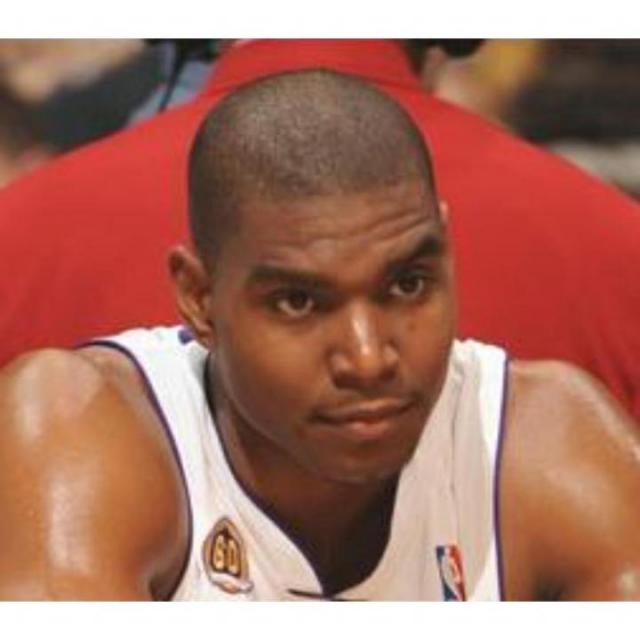live: (162, 170, 470, 494)
